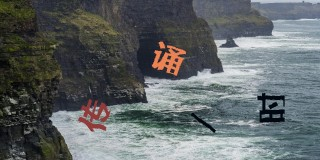一: (191, 111, 216, 133)
传: (75, 97, 111, 132)
时: (255, 91, 287, 124)
诵: (150, 39, 185, 76)
